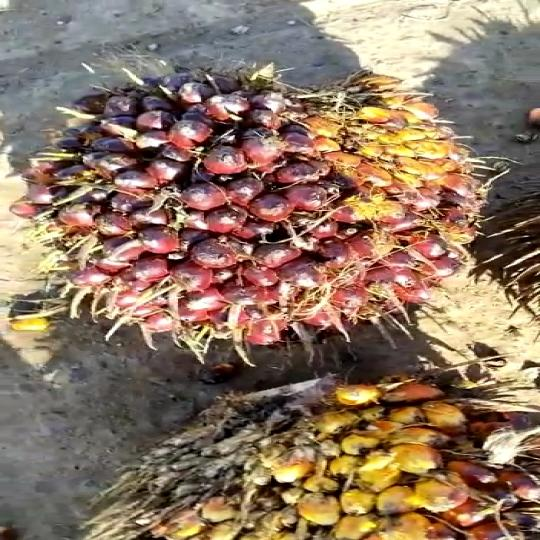kurang masak: (40, 51, 510, 349), (81, 369, 539, 540)
